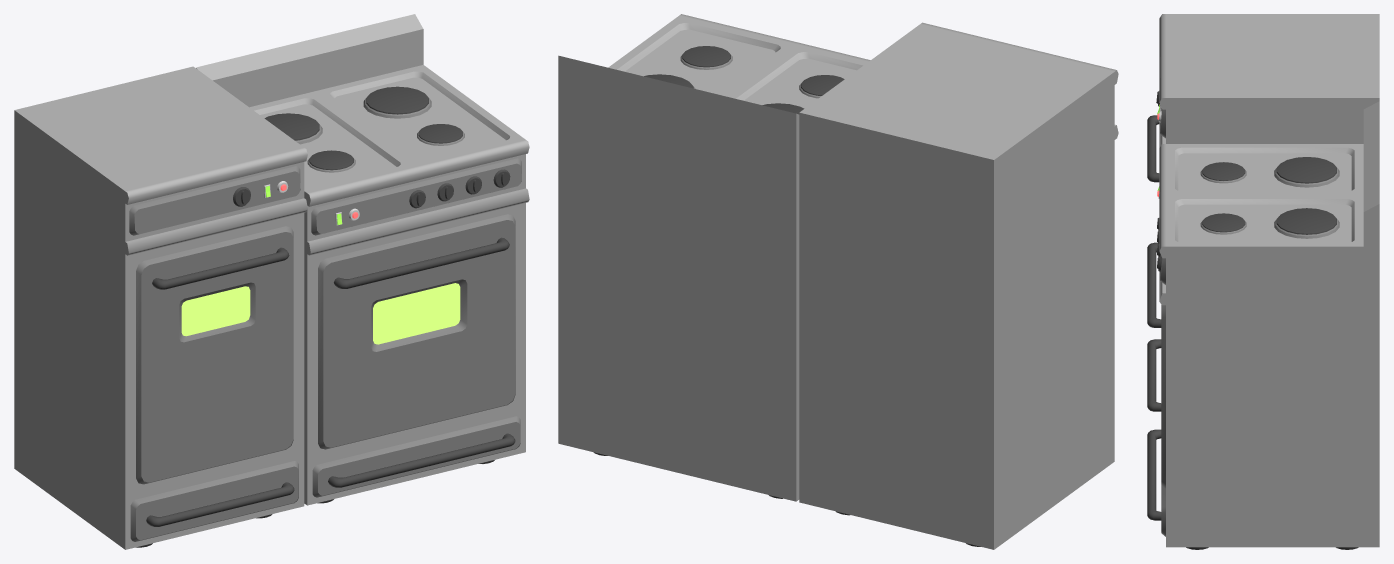
Rendered from z_comida.glb.
The picture shows the model from 3 angles, left to right: view 1: azimuth 30°, elevation 25°; view 2: azimuth 150°, elevation 25°; view 3: azimuth 270°, elevation 25°; orthographic projection. The views are drawn at different scales.
Parts seen in each view (by area): view 1: cocina_02_02 - Default_0, cocina_01_02 - Default_0, cocina_01_07 - Default_0, cocina_02_07 - Default_0, cocina_01_03 - Default_0, cocina_01_08 - Default_0, cocina_02_03 - Default_0, cocina_02_08 - Default_0; view 2: cocina_02_02 - Default_0, cocina_01_02 - Default_0, cocina_01_03 - Default_0; view 3: cocina_01_02 - Default_0, cocina_02_02 - Default_0, cocina_01_03 - Default_0, cocina_01_07 - Default_0, cocina_02_03 - Default_0.
Part boxes in pixels (box(x1,y1,x2,y2)): cocina_02_02 - Default_0: box(14, 66, 307, 549); cocina_01_02 - Default_0: box(196, 14, 529, 505); cocina_01_07 - Default_0: box(295, 95, 521, 497); cocina_02_07 - Default_0: box(129, 166, 300, 541); cocina_01_03 - Default_0: box(264, 86, 515, 503); cocina_01_08 - Default_0: box(373, 283, 460, 344); cocina_02_03 - Default_0: box(136, 187, 294, 547); cocina_02_08 - Default_0: box(181, 286, 250, 336); cocina_02_02 - Default_0: box(799, 22, 1118, 549); cocina_01_02 - Default_0: box(558, 14, 870, 501); cocina_01_03 - Default_0: box(594, 46, 844, 498); cocina_01_02 - Default_0: box(1159, 101, 1379, 547); cocina_02_02 - Default_0: box(1159, 14, 1379, 147); cocina_01_03 - Default_0: box(1147, 157, 1358, 549); cocina_01_07 - Default_0: box(1160, 165, 1339, 536); cocina_02_03 - Default_0: box(1147, 91, 1161, 411).
Size of the model in its own units: 60.43 by 53.17 by 31.57.
